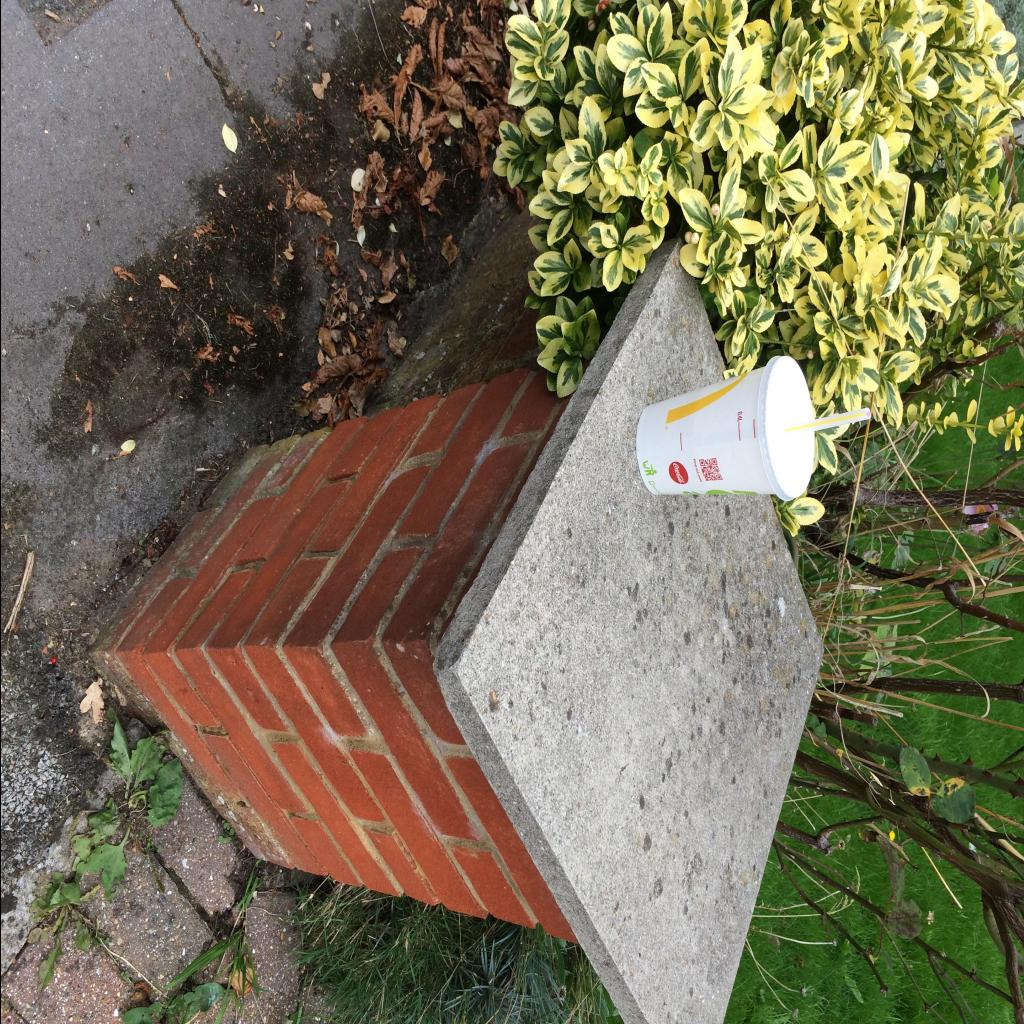Paper cup: (635, 366, 775, 494)
Plastic lid: (756, 356, 814, 502)
Plastic straw: (784, 408, 870, 438)
